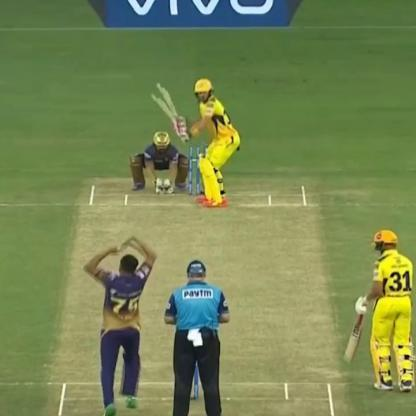ball: (106, 238, 129, 258)
bat: (146, 80, 198, 138)
pitch: (46, 172, 340, 416)
